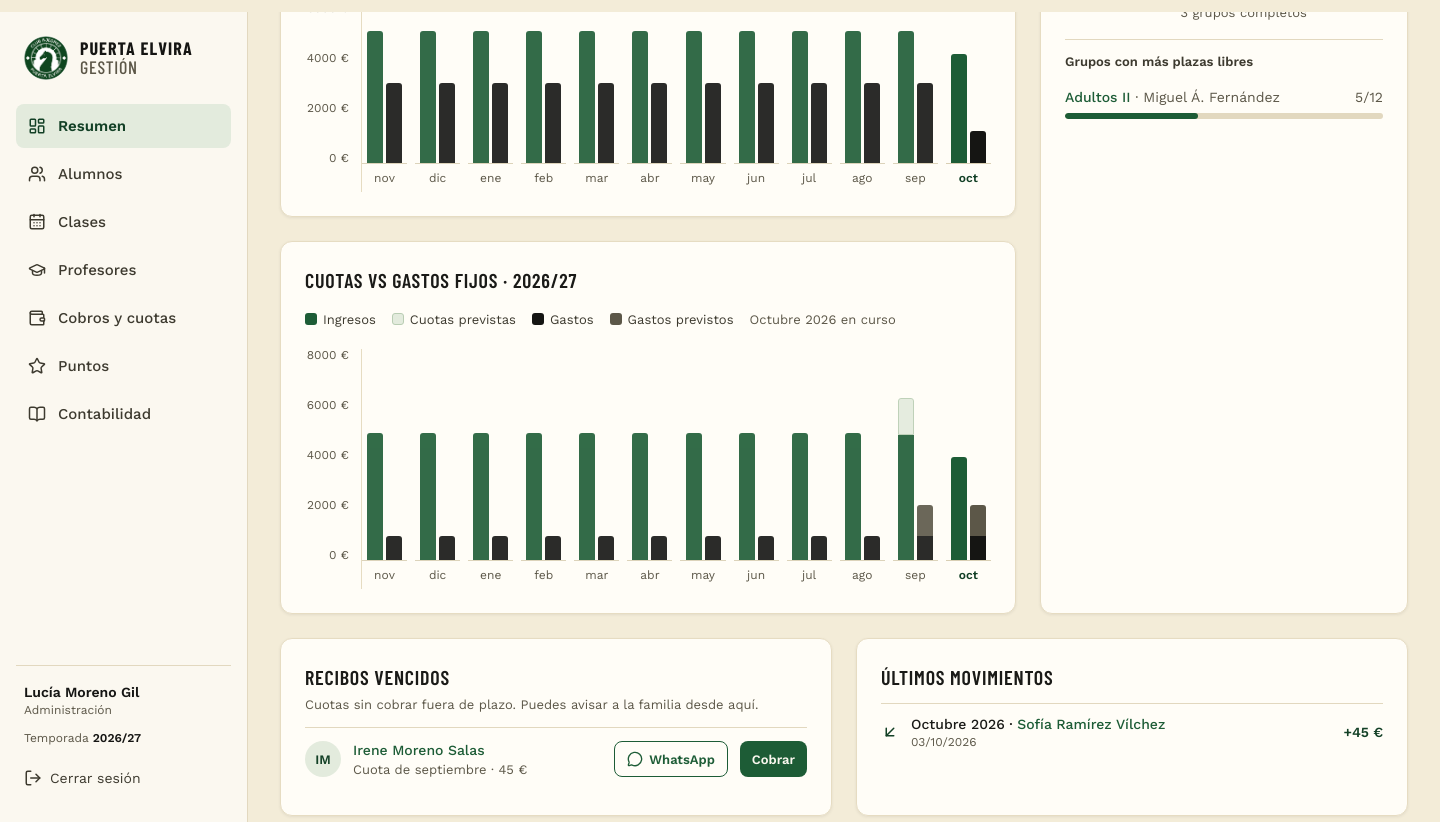
Resumen › shows the key figures, the chart, occupancy, overdue charges and latest movements
(page scrolled)
Expected: the text "Cuotas previstas" is shown, [392, 310, 516, 329]
Hover over the element with test id "mes-2026-09-expected".
mouse_move(906, 417)  # box [898, 398, 914, 435]
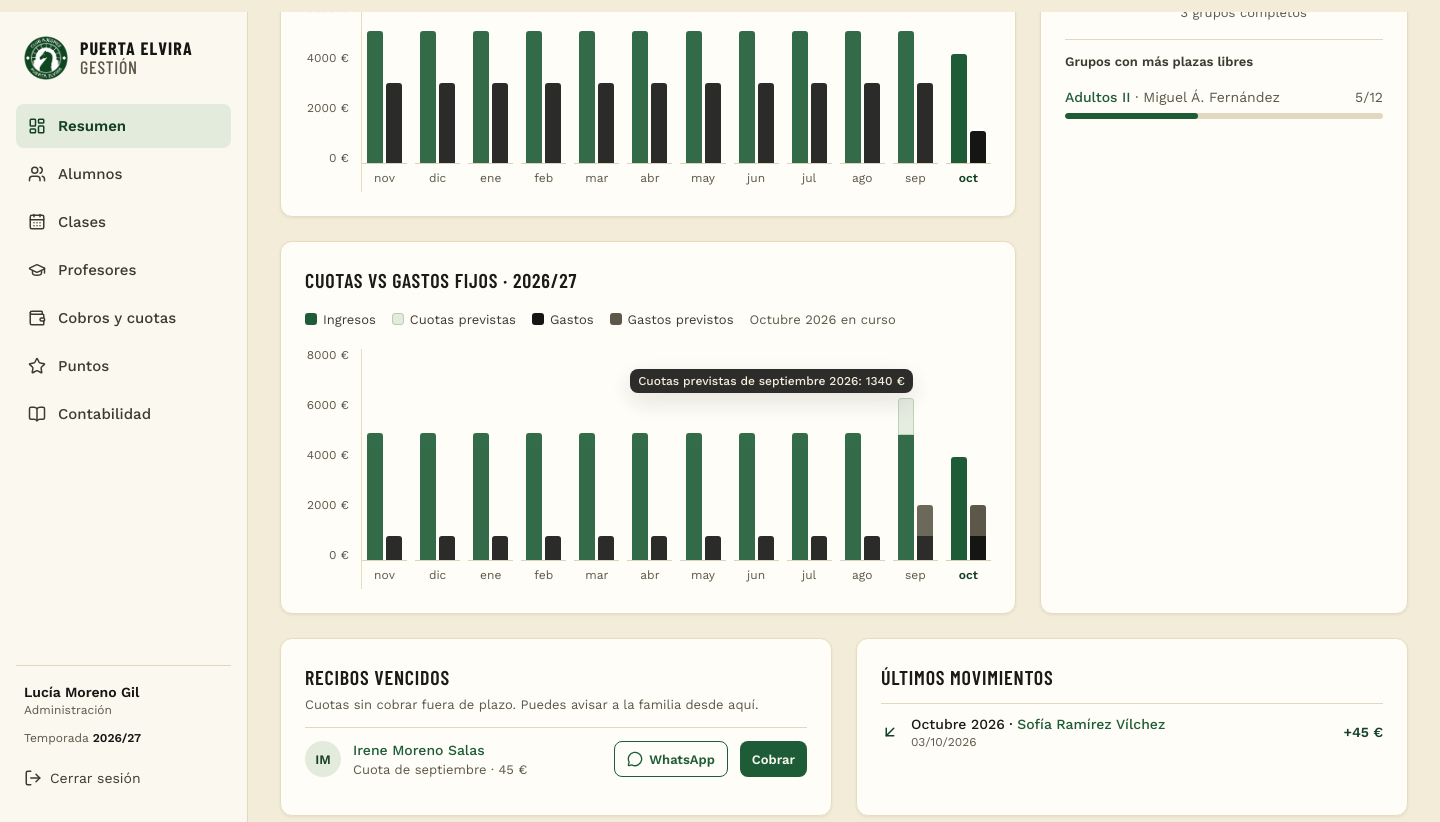
Expected: the text "Gastos previstos" is shown, [610, 310, 734, 329]
Result: the text "Cuotas previstas de septiembre 2026: 1340 €" is shown at [630, 369, 913, 393]
Hover over the element with test id "mes-2026-10-expectedExpense".
mouse_move(978, 520)  # box [970, 505, 986, 536]
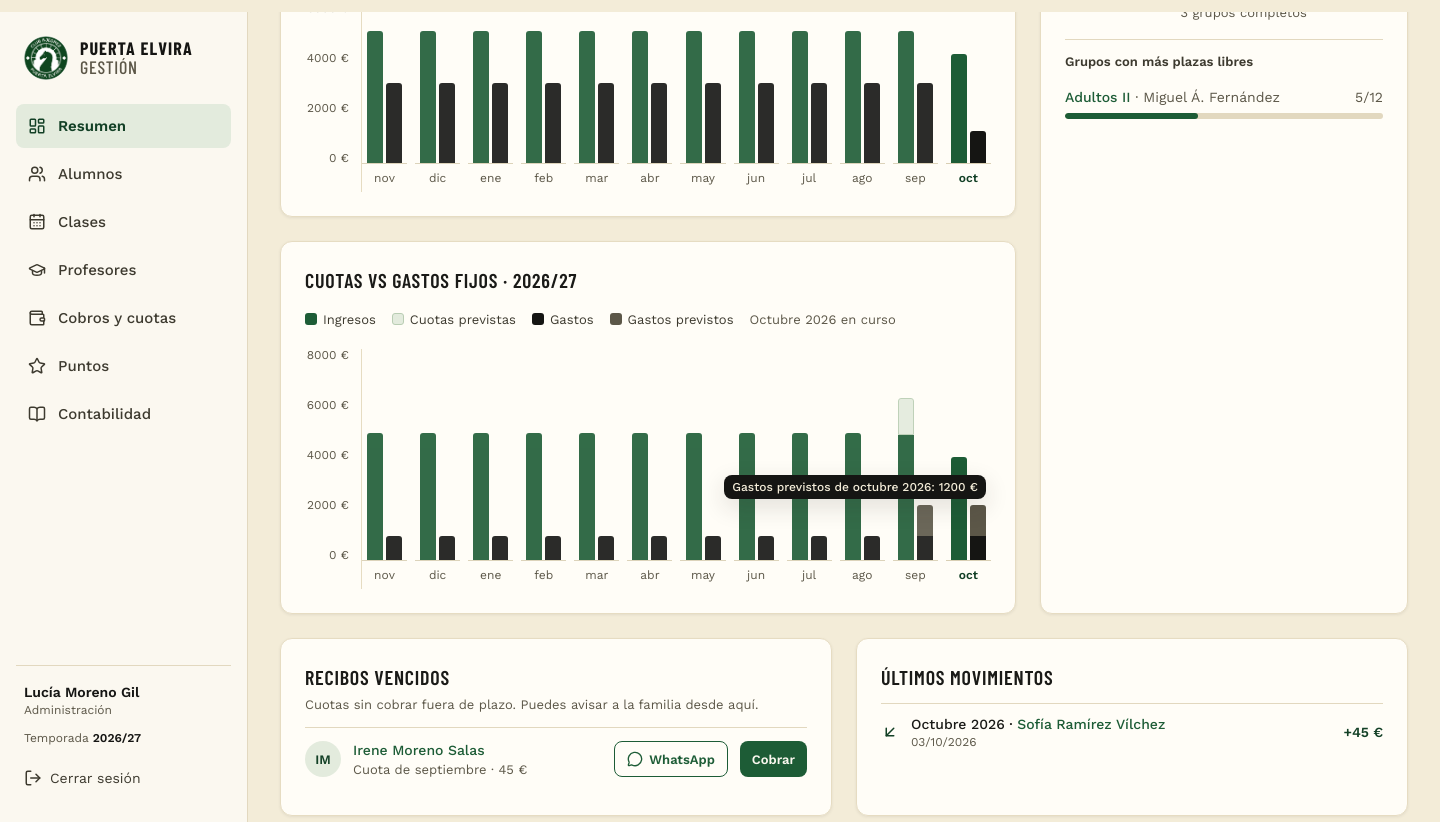
Result: the text "Gastos previstos de octubre 2026: 1200 €" is shown at [724, 475, 986, 499]
Hover over the element with test id "caja-2026-10-income".
mouse_move(959, 108)  # box [951, 54, 967, 162]
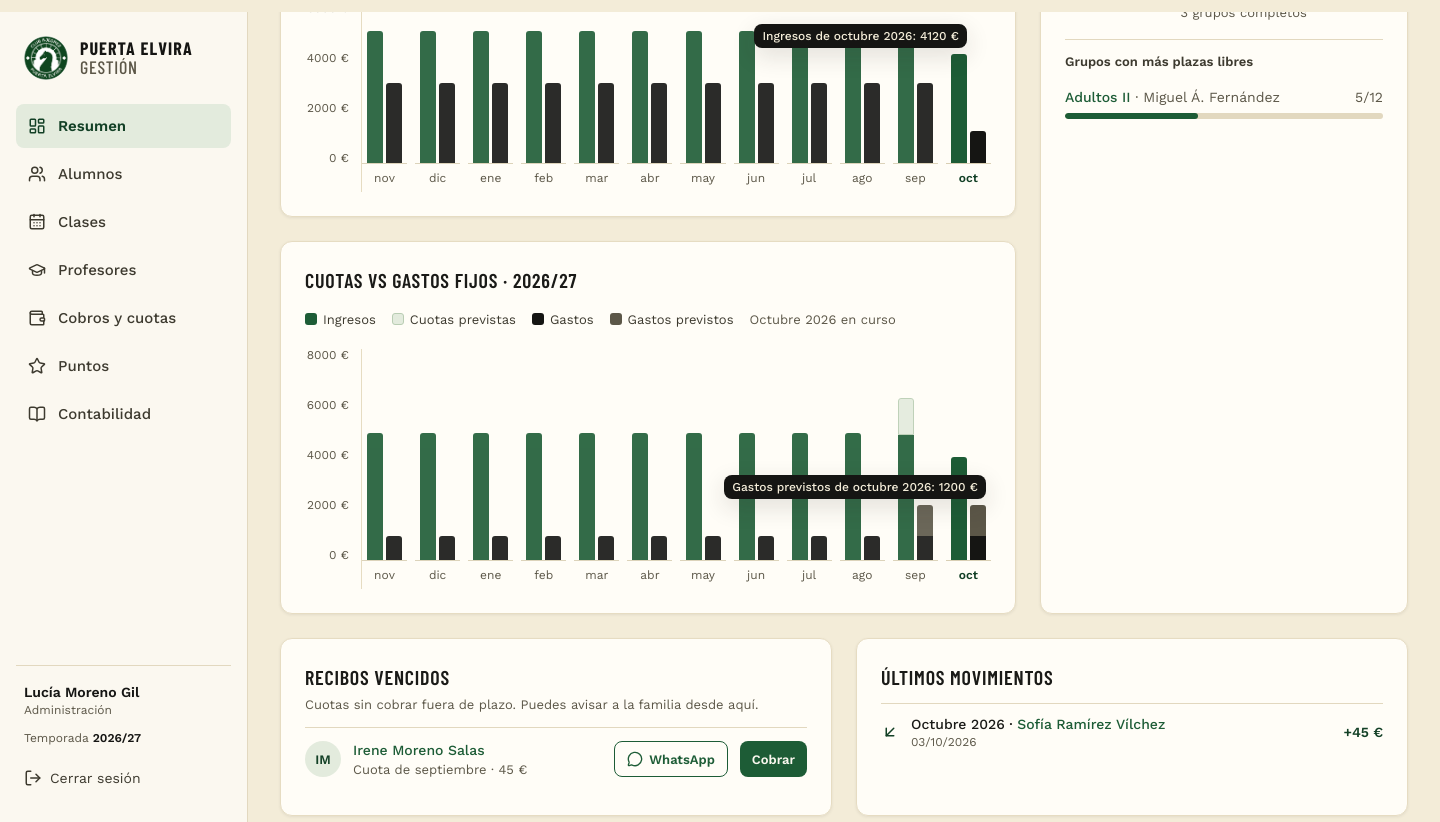
Result: the text "Ingresos de octubre 2026: 4120 €" is shown at [754, 24, 967, 48]
Hover over the element with test id "caja-2026-10-expense".
mouse_move(978, 147)  # box [970, 131, 986, 162]
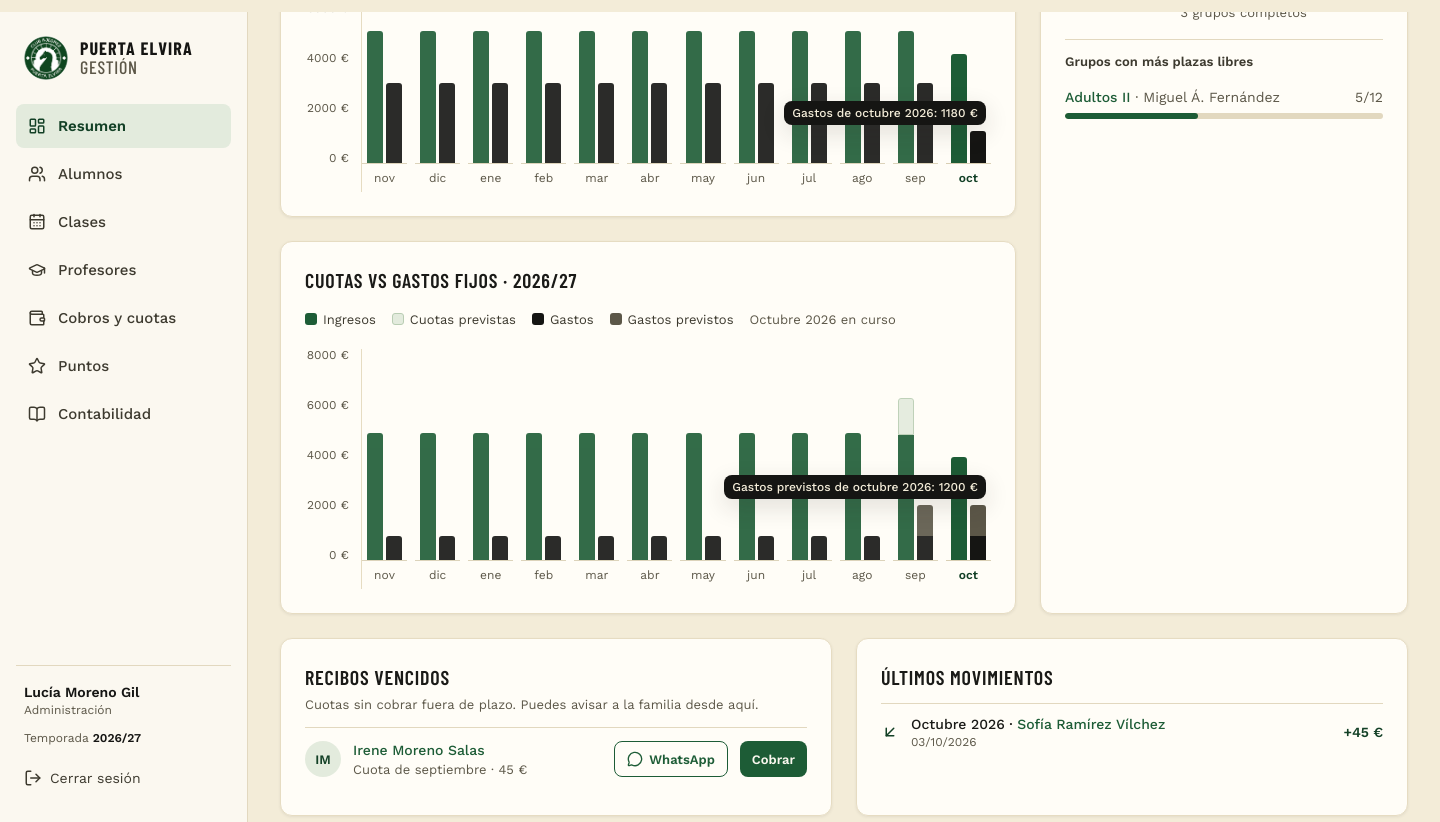
Result: the text "Gastos de octubre 2026: 1180 €" is shown at [784, 101, 986, 125]
Result: the text "Ingresos de octubre 2026: 4120 €" is gone
Hover over the element with test id "mes-2026-10-expense".
mouse_move(978, 548)  # box [970, 536, 986, 560]
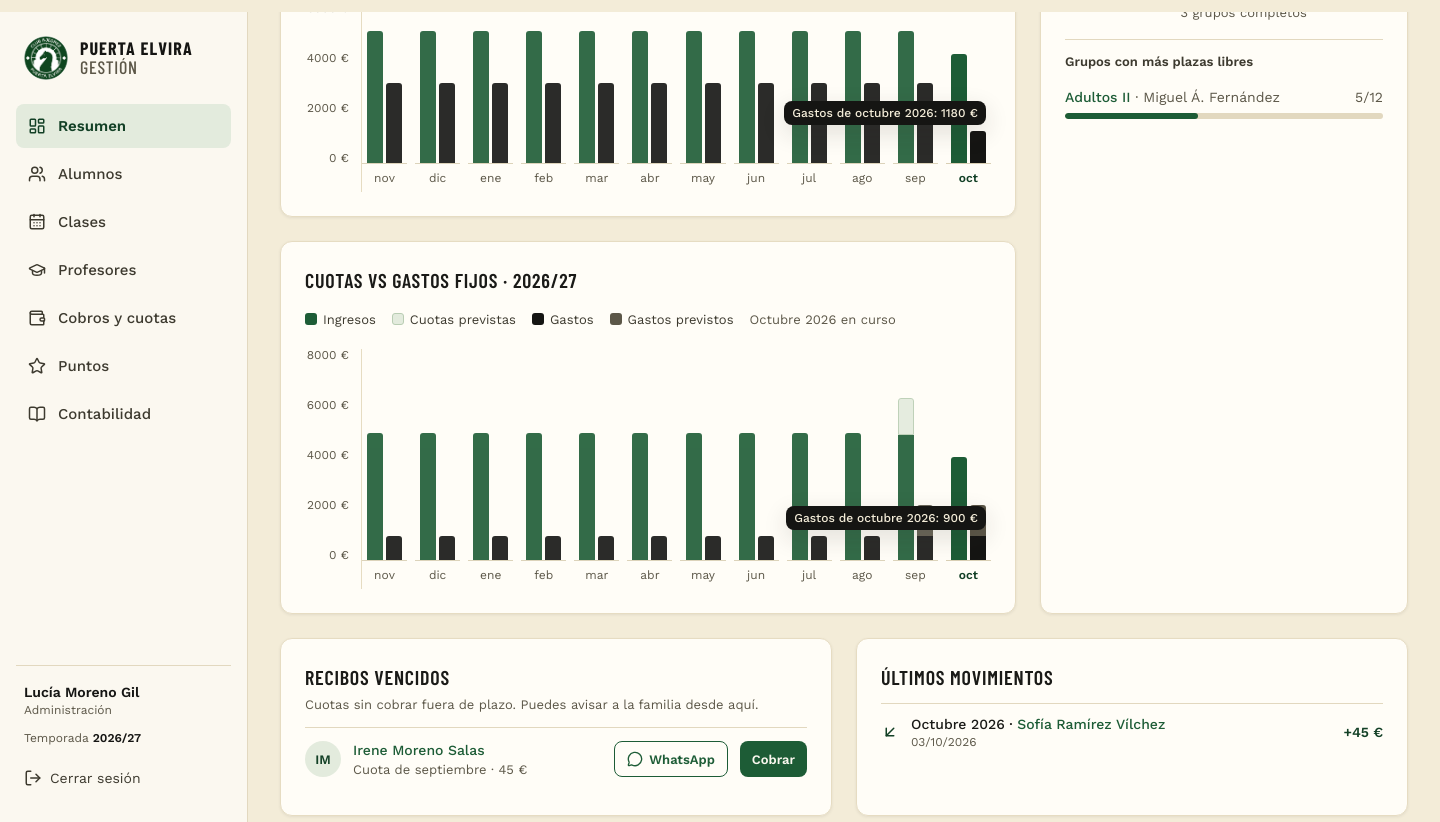
Expected: the text "Adultos II" is shown, [1065, 89, 1130, 105]
Result: the text "Gastos de octubre 2026: 900 €" is shown at [786, 506, 986, 530]
